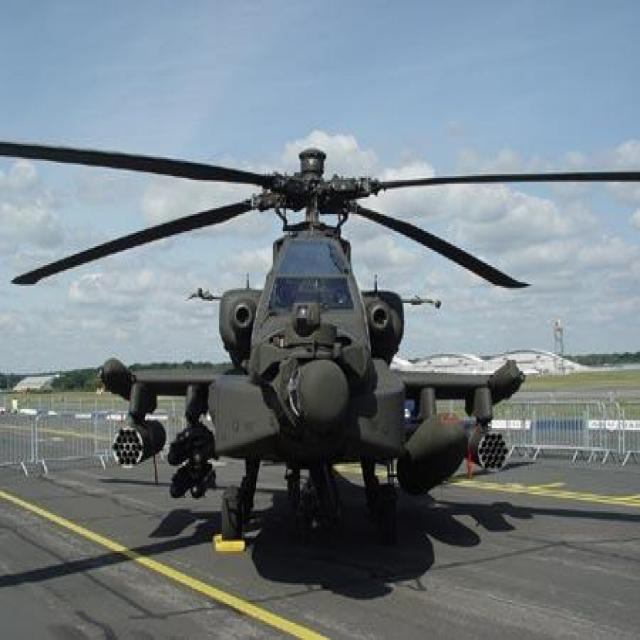MIL_HELO: (0, 119, 640, 554)
